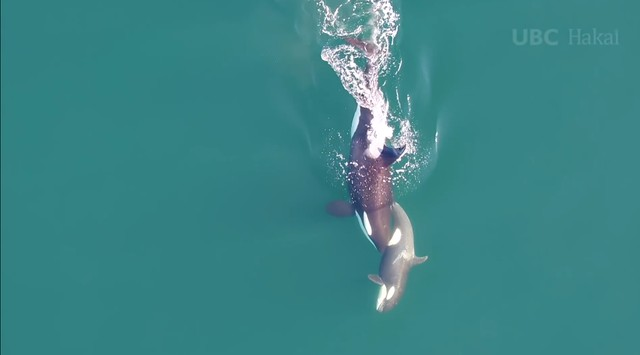whale: (329, 24, 407, 259), (364, 185, 436, 320)
